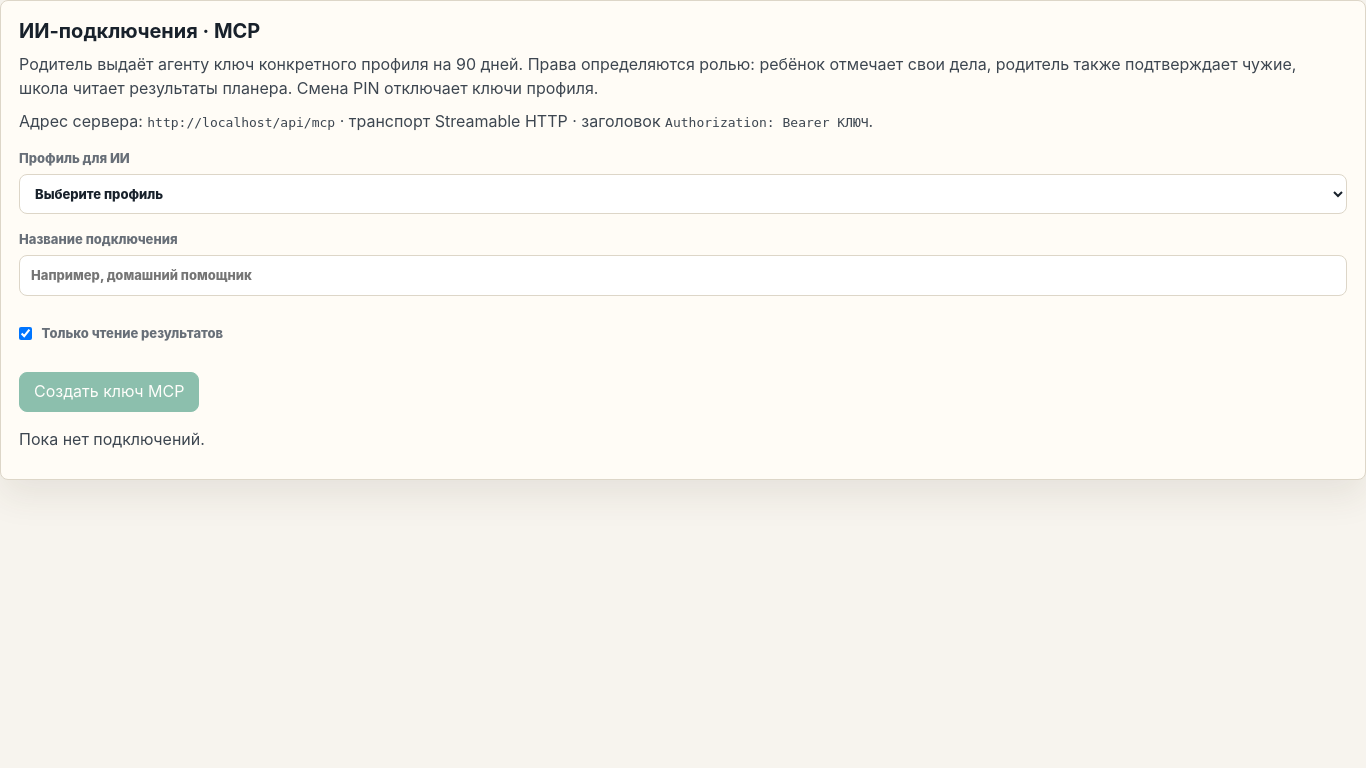
Test: creates a delegated key only after parent confirmation, shows it once and revokes it
This screenshot has width=1366, height=768.
Expected: the text "Пока нет подключений." is shown, [19,429,205,449]
Select "Ребёнок · Ребёнок" in the dropdown labelled "Профиль для ИИ" at (683, 194), box [19,174,1347,214]
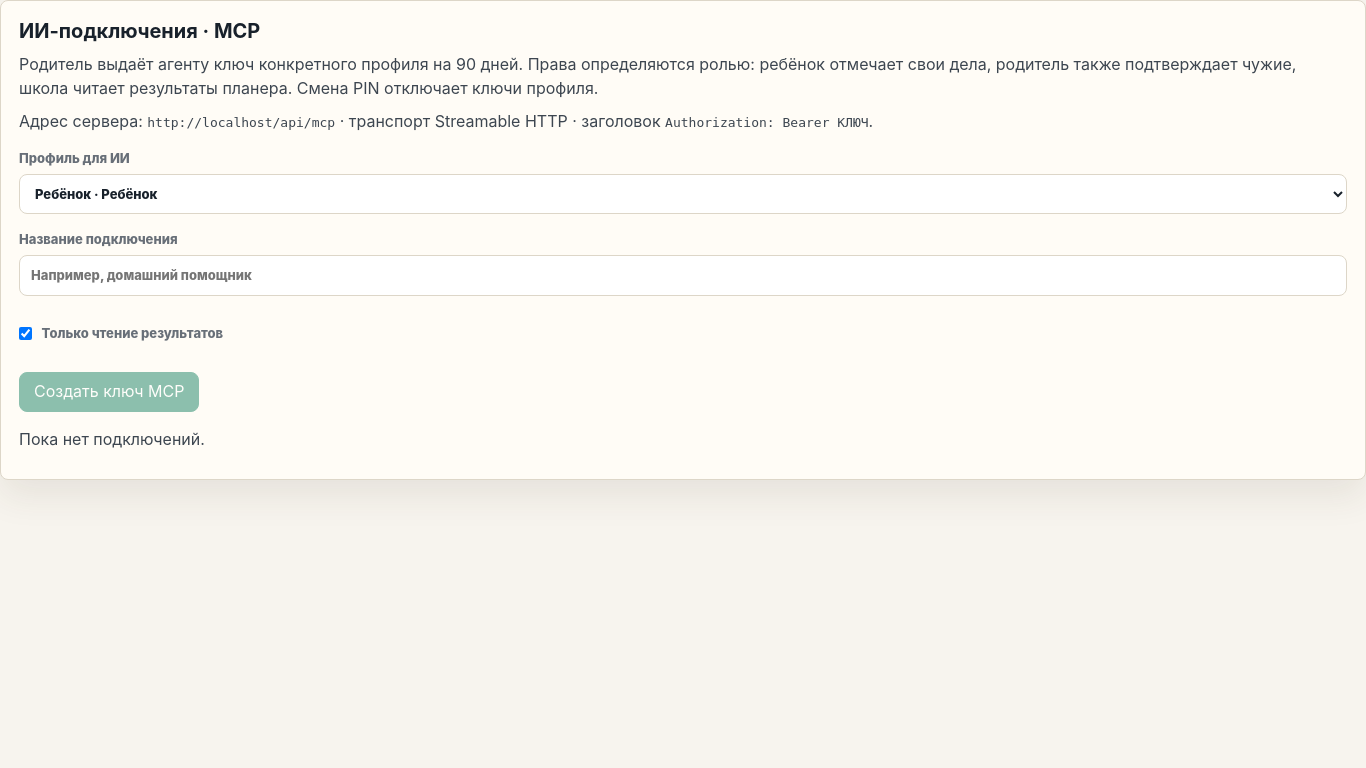
Type "Помощник" into the field labelled "Название подключения" at (683, 275), box [19,255,1347,296]
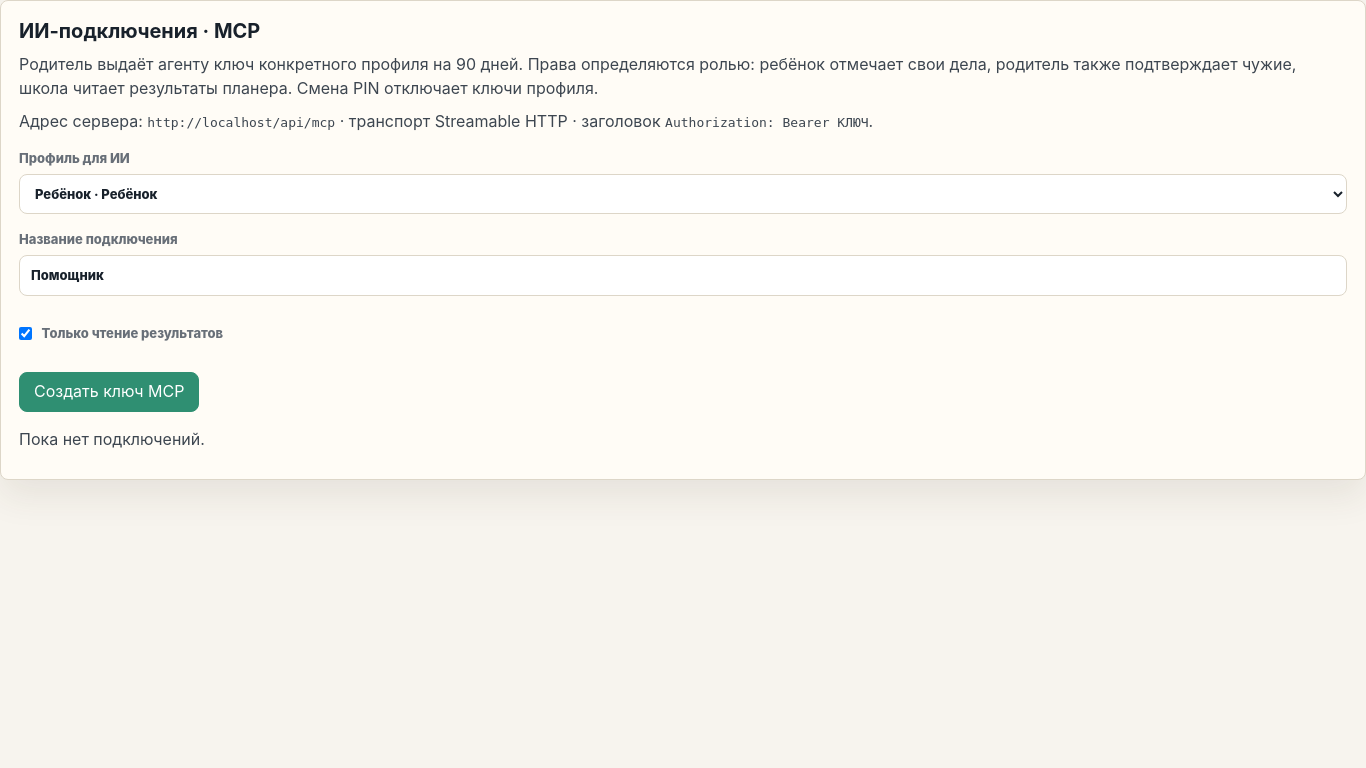
Expected: the checkbox labelled "Только чтение результатов" is checked, [19,327,32,340]
Click the button "Создать ключ MCP" at (109, 392), box [19,372,199,412]
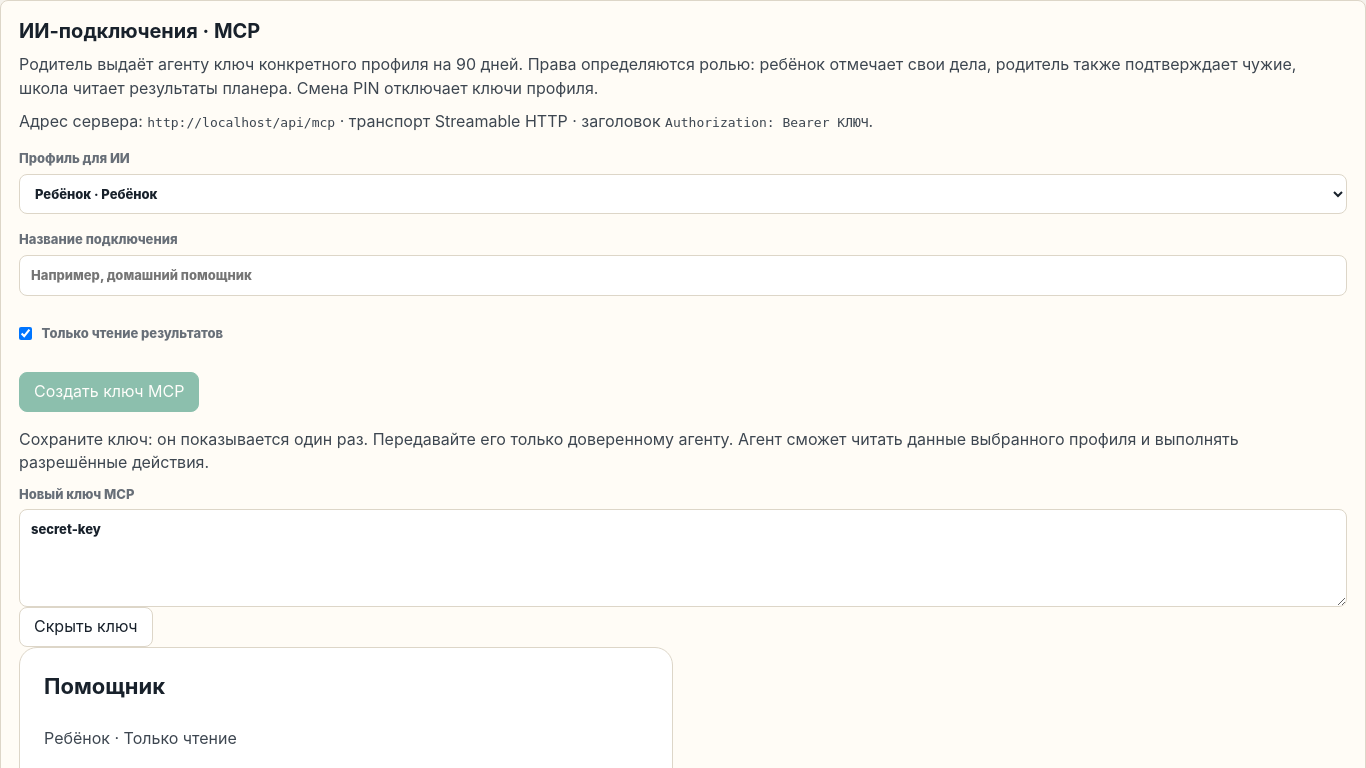
Now the text box labelled "Новый ключ MCP" is shown, box [19,510,1347,607]
Click the button "Скрыть ключ" at (86, 627), box [19,607,152,647]
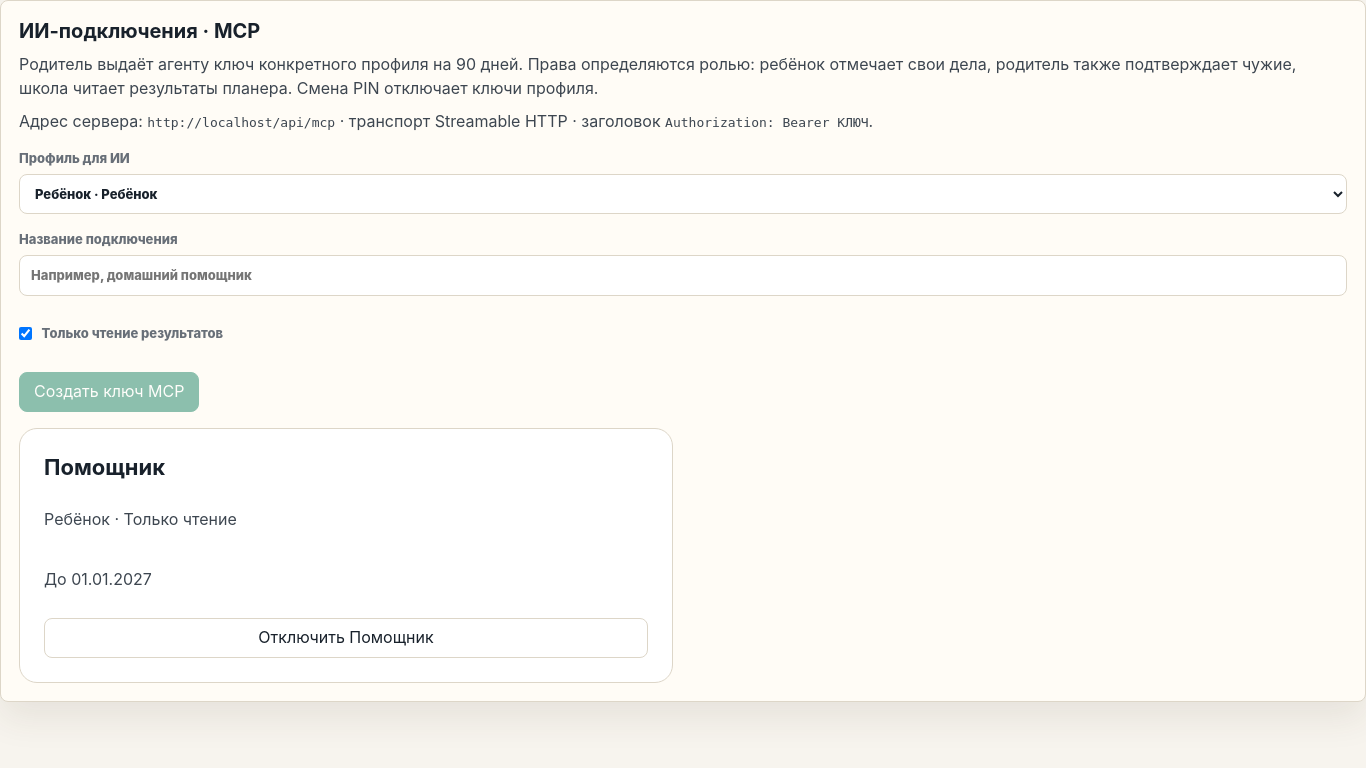
Expected: the field showing "secret-key" is not shown
Click the button "Отключить Помощник" at (346, 638), box [44,618,648,658]
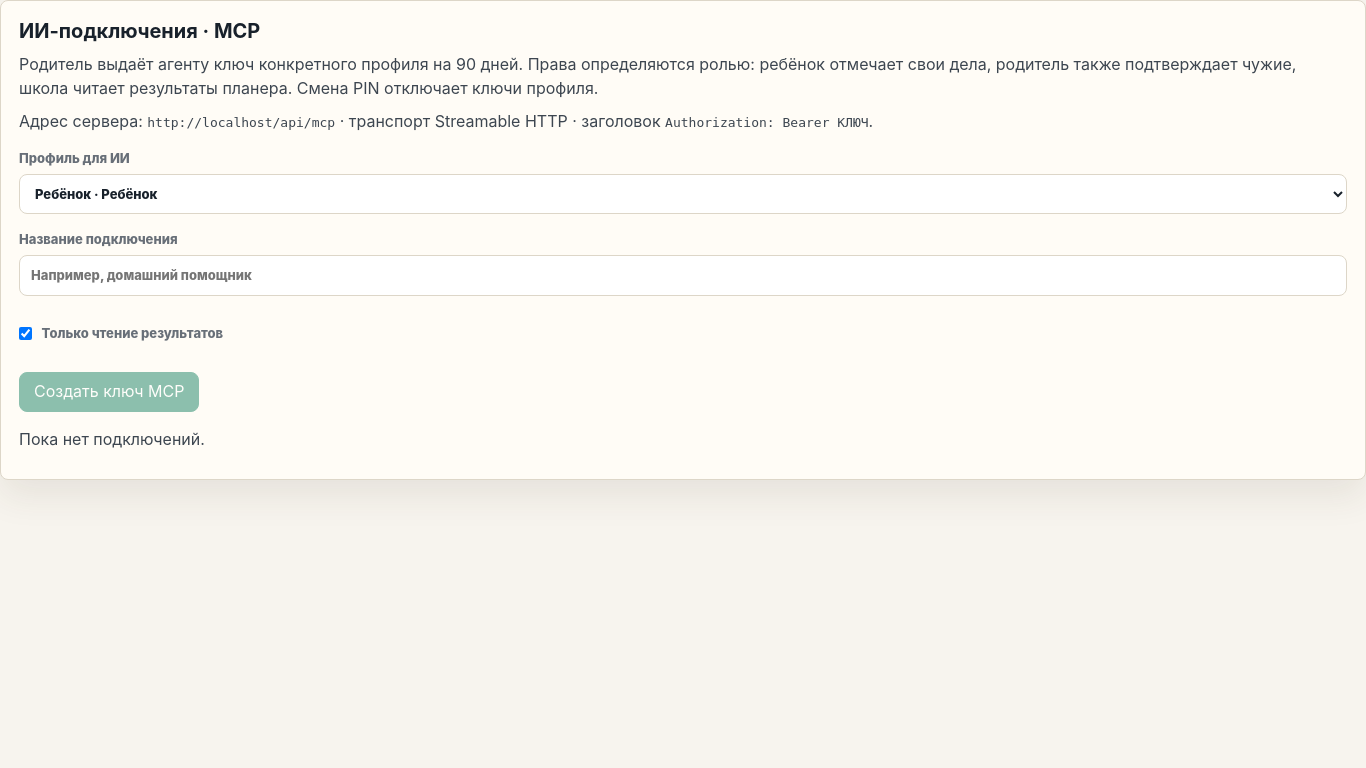
Now the text "Пока нет подключений." is shown, box [19,429,205,449]
